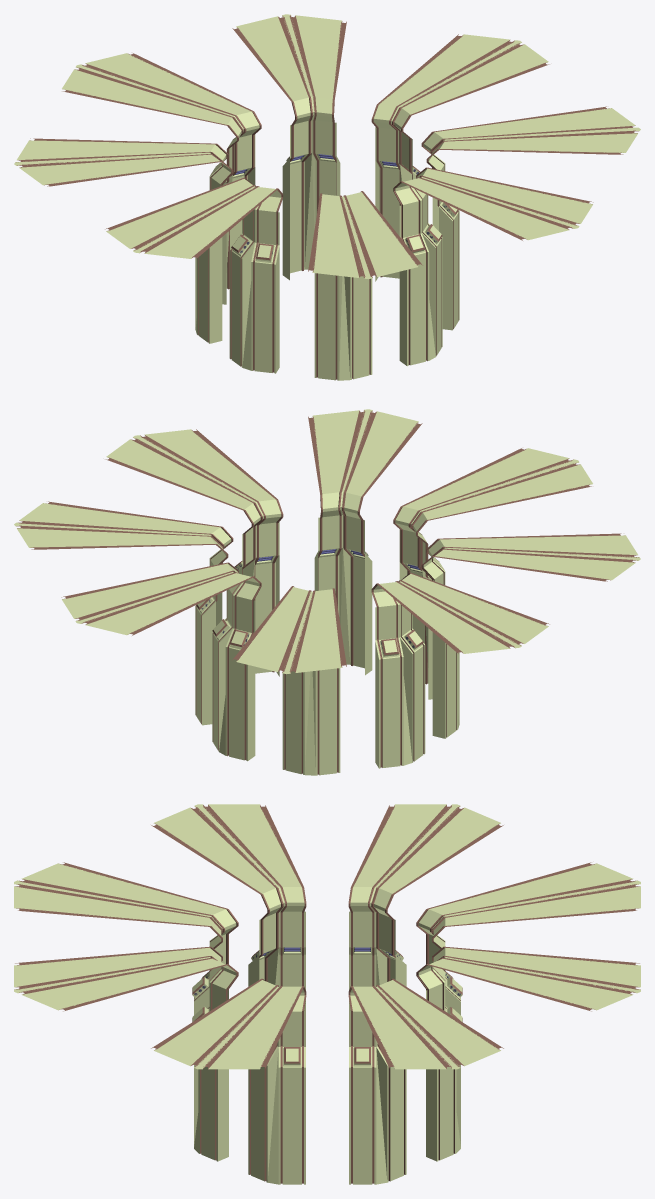
The model's file is Dragonfly_Gears_OuterWalls.fbx.
3 views of the same model, one above another, from view 1: azimuth 30°, elevation 25°; view 2: azimuth 150°, elevation 25°; view 3: azimuth 270°, elevation 25° (orthographic). The views are drawn at different scales.
Visible parts, largest first — view 1: Outer_Walls; view 2: Outer_Walls; view 3: Outer_Walls.
Part boxes in pixels (left/top/right/bottom): Outer_Walls: left=14, top=14, right=640, bottom=380; Outer_Walls: left=14, top=409, right=640, bottom=775; Outer_Walls: left=14, top=804, right=640, bottom=1184.
Size of the model in its own units: 321 by 108 by 321.
